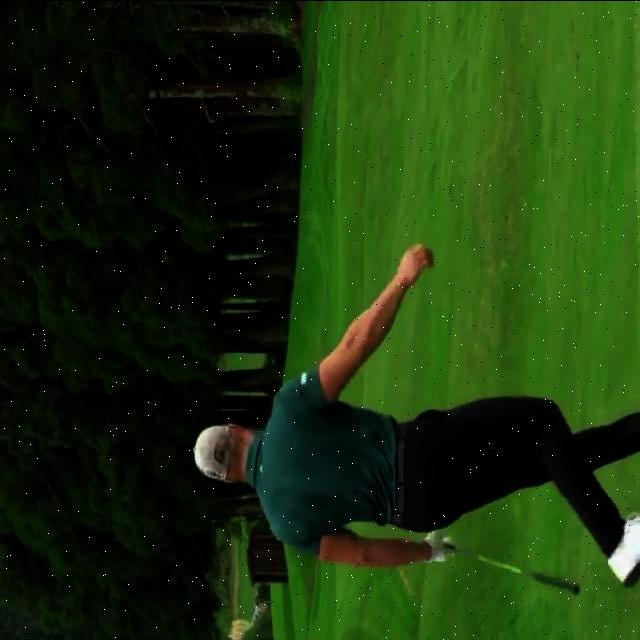ClubHandle: (443, 544, 579, 594)
